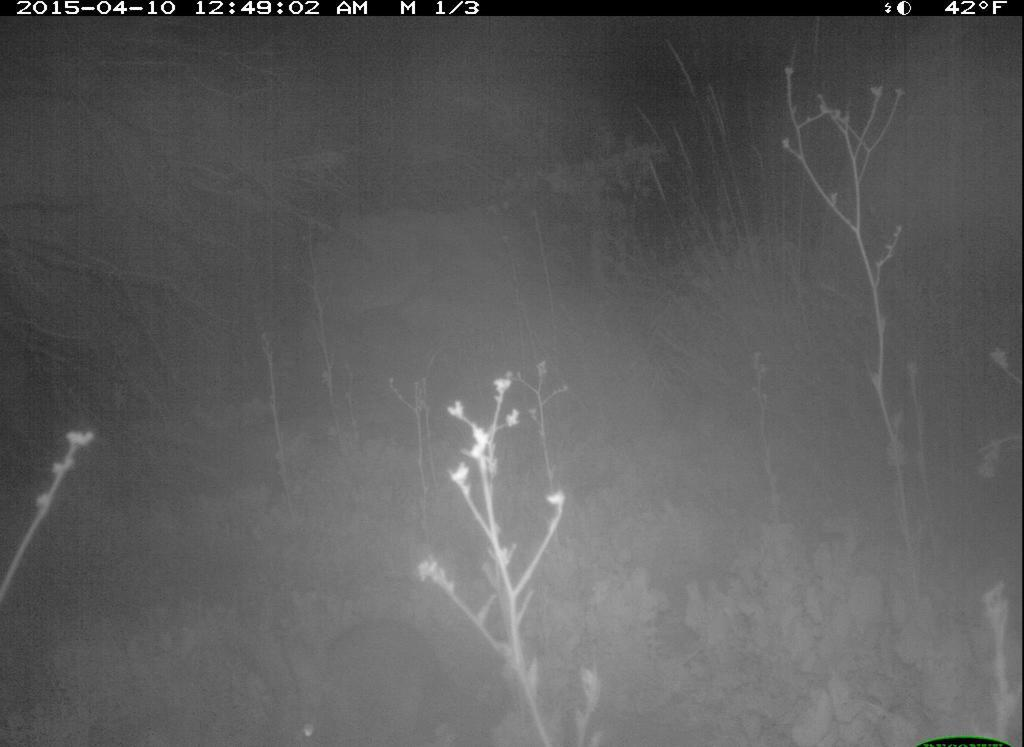rabbit: (242, 610, 482, 744)
